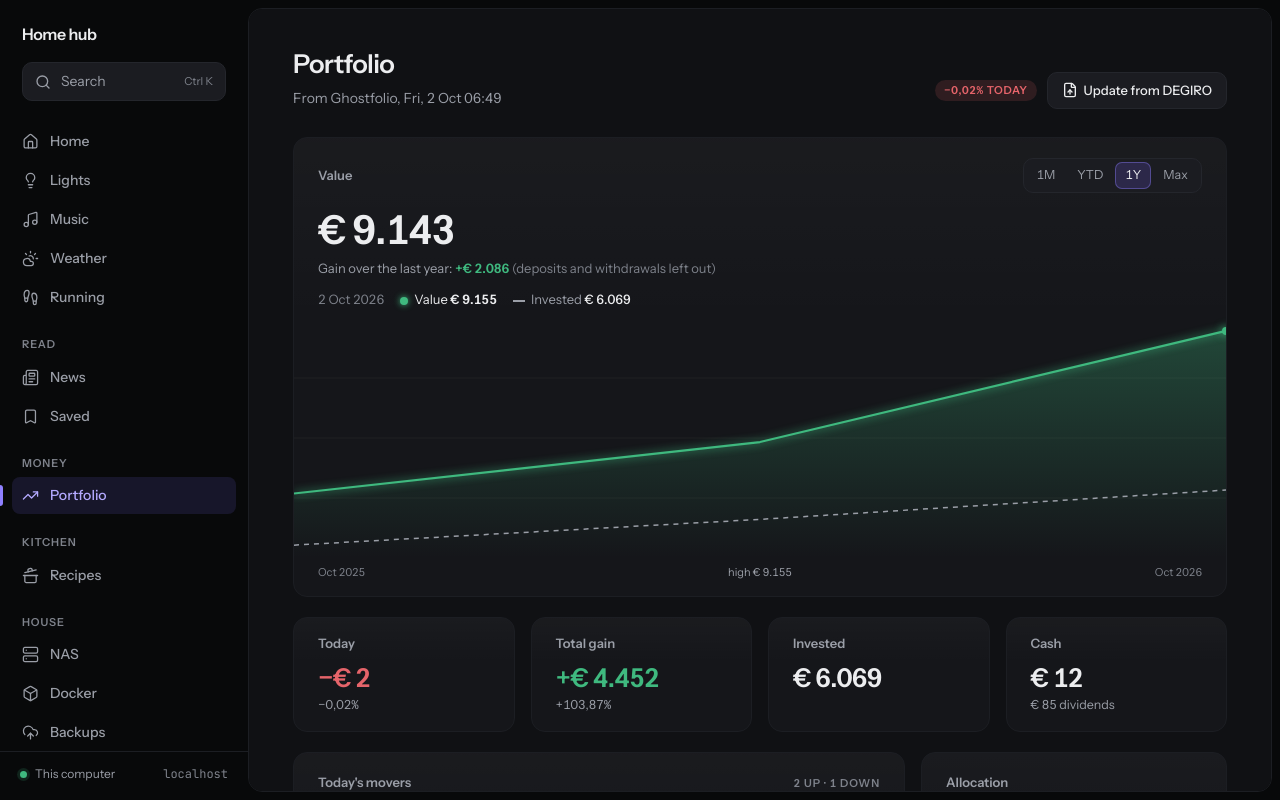
it: PortfolioPage › charts the value with the gain apart from deposits, per period
The width and height of the screenshot is (1280, 800).
Expected: the text "+€ 2.086" is shown, x1=455 y1=260 x2=509 y2=276
Expected: the picture named "Portfolio value, 1Y: from € 6.000 to € 9.155." is shown, x1=294 y1=318 x2=1226 y2=558
Click the radio button labelled "Max".
click(1176, 175)  # box x1=1153 y1=162 x2=1198 y2=189
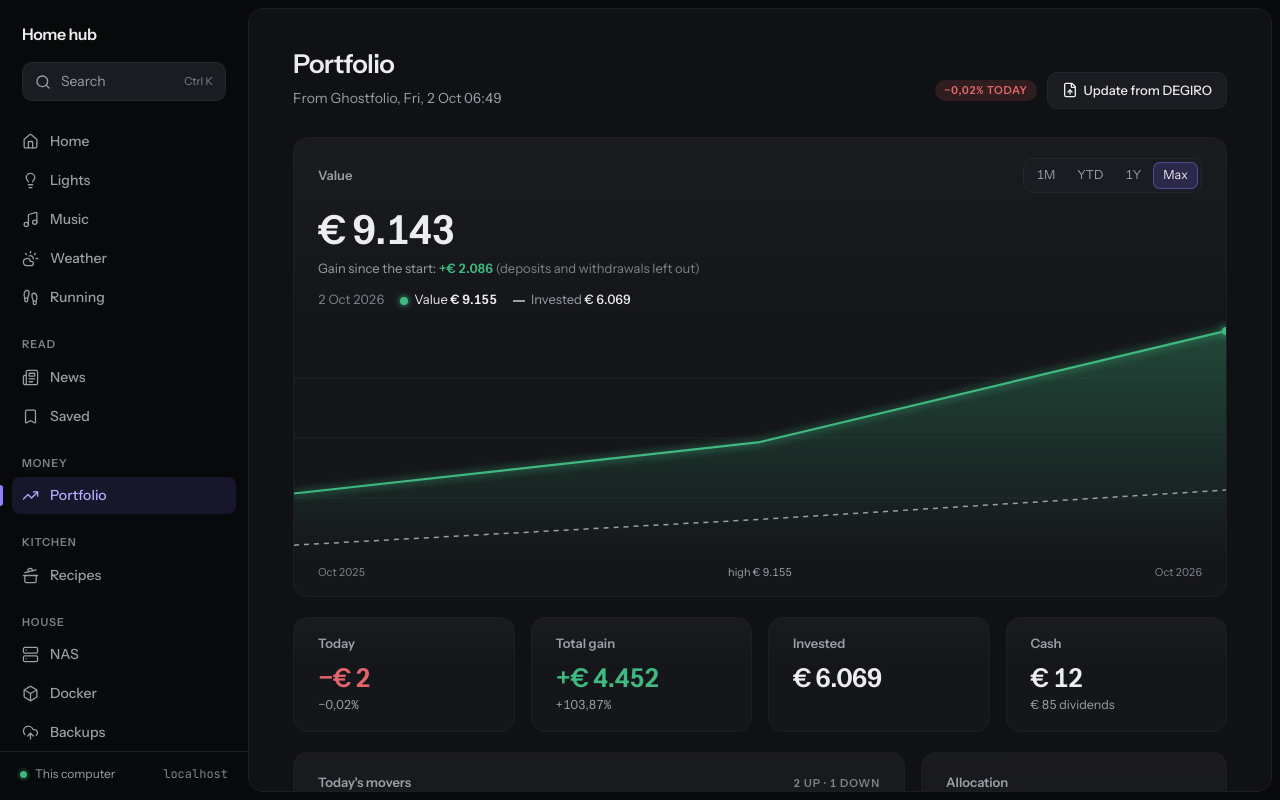
Expected: the text "Gain since the start" is shown, x1=318 y1=260 x2=433 y2=276
